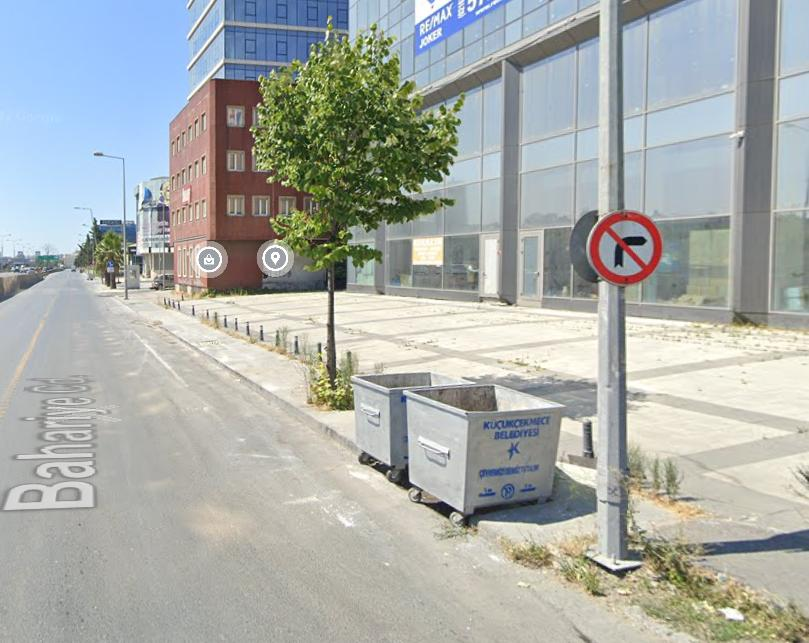rightturnsareforbidden: (587, 209, 664, 285)
